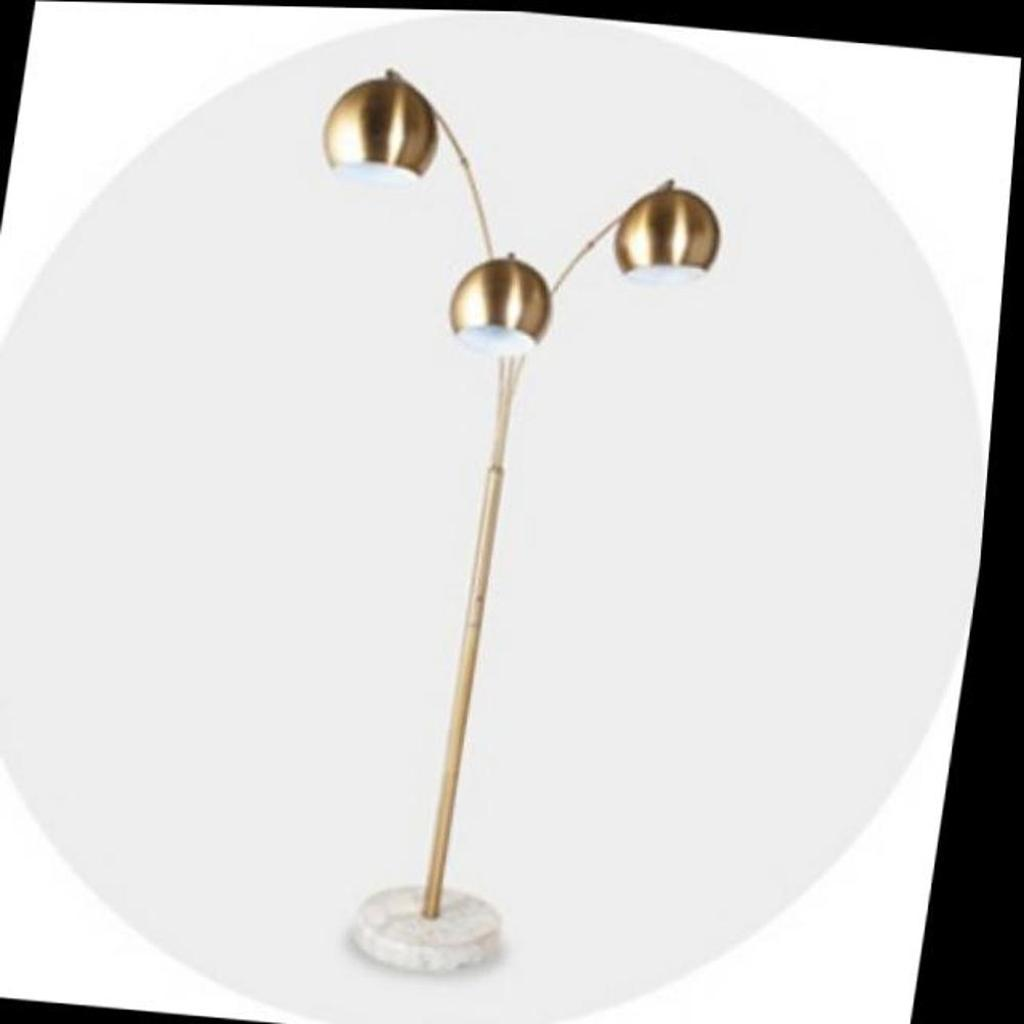shelf: (176, 27, 778, 1009)
